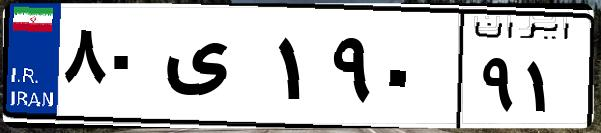0: (385, 28, 445, 110), (110, 28, 158, 98)
1: (270, 28, 330, 110), (525, 38, 570, 115)
8: (57, 26, 110, 100)
9: (330, 28, 385, 110), (475, 38, 525, 113)
ی: (158, 20, 270, 120)
